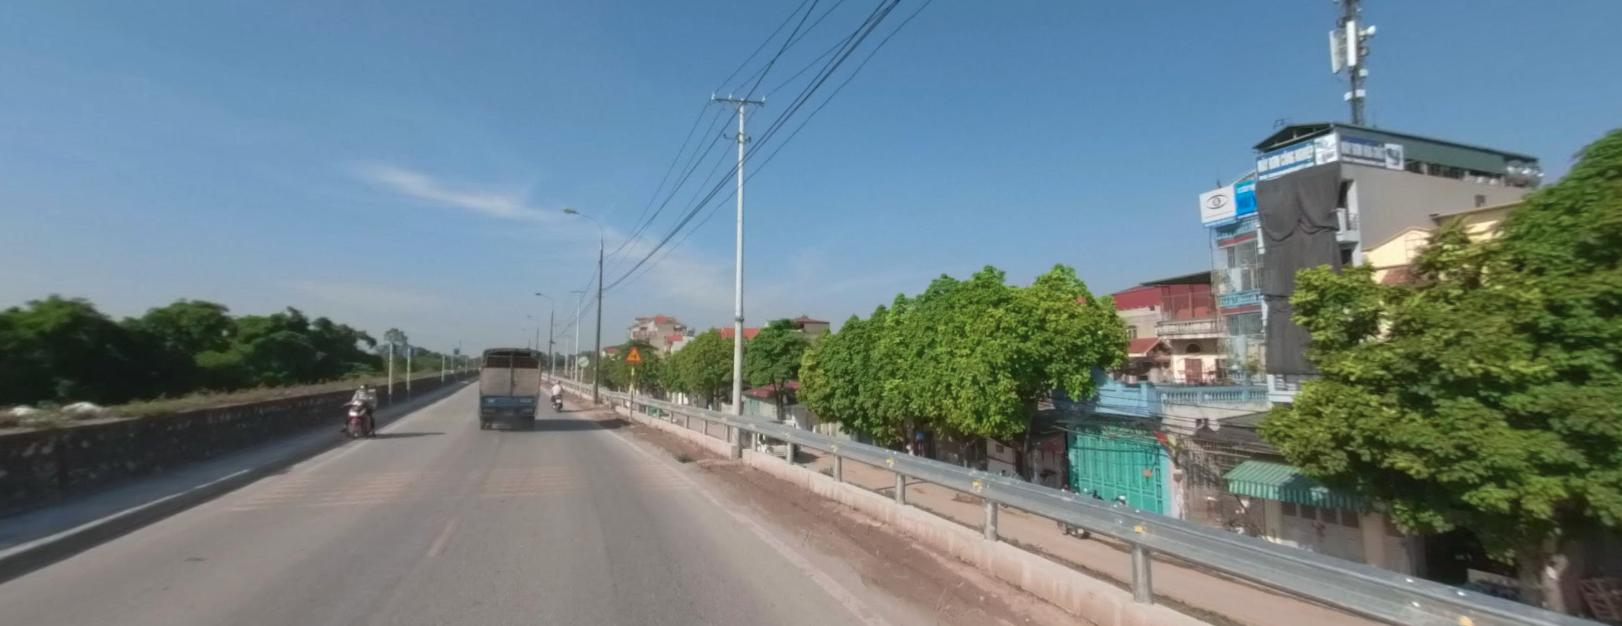Cam con lai: (577, 353, 590, 366), (578, 353, 589, 365), (577, 354, 588, 365), (578, 355, 588, 365)
Nguy hiem: (624, 342, 643, 360), (625, 342, 642, 360), (625, 345, 641, 360), (626, 345, 640, 360)
